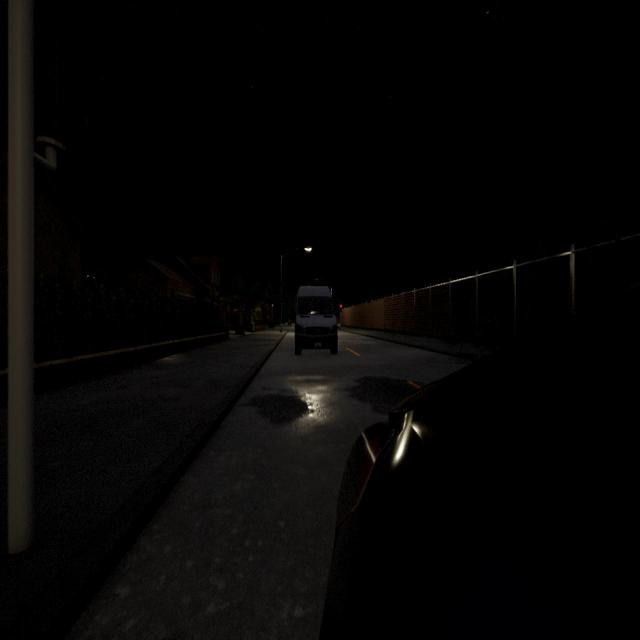Vehicle: (318, 289, 640, 640), (295, 286, 338, 357)
traffic_light: (25, 4, 77, 151), (340, 304, 342, 312)
